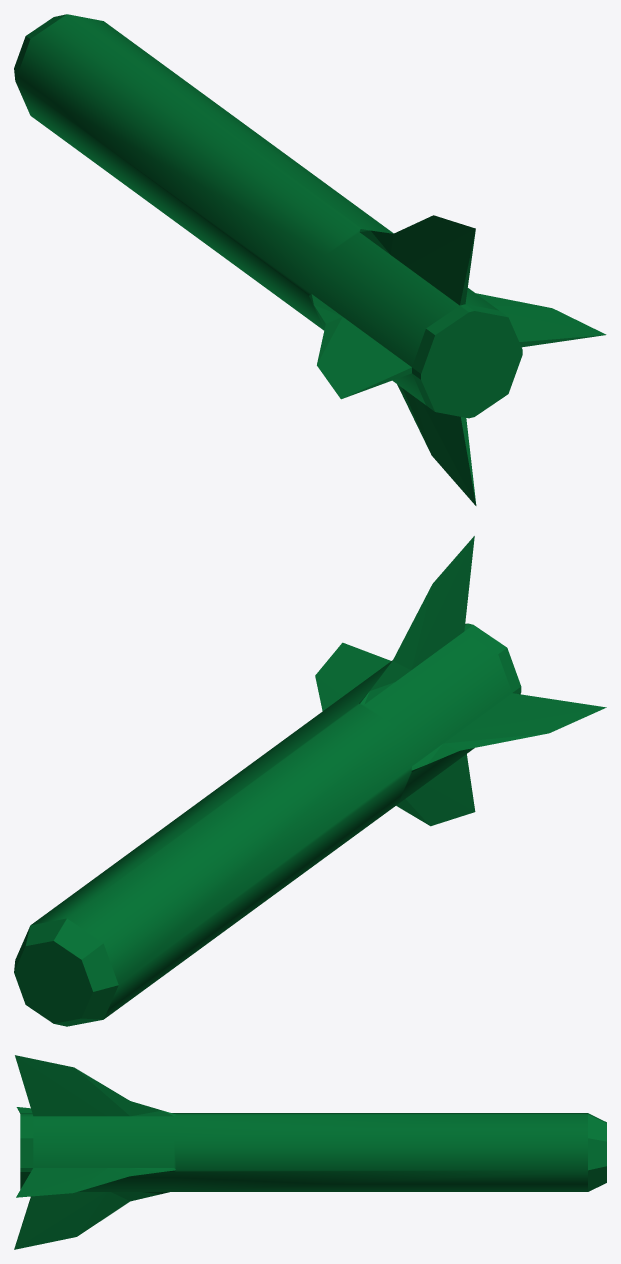
File: Missile.FBX
3 views of the same model, one above another, from view 1: azimuth 30°, elevation 25°; view 2: azimuth 150°, elevation 25°; view 3: azimuth 270°, elevation 25° (orthographic). The views are drawn at different scales.
Parts seen in each view (by area): view 1: Missale; view 2: Missale; view 3: Missale.
Part boxes in pixels (left/top/right/bottom): Missale: left=14, top=14, right=606, bottom=505; Missale: left=14, top=536, right=606, bottom=1026; Missale: left=14, top=1055, right=606, bottom=1249.
Size of the model in its own units: 1.44 by 1.44 by 3.98.
